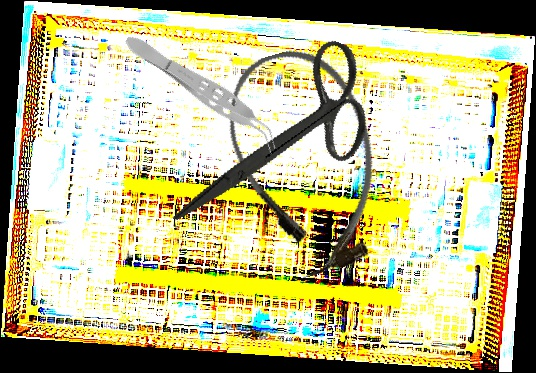Cannula: (209, 35, 404, 288)
Iris Scissors: (171, 9, 393, 271)
Tissue Forceps: (118, 27, 288, 155)
